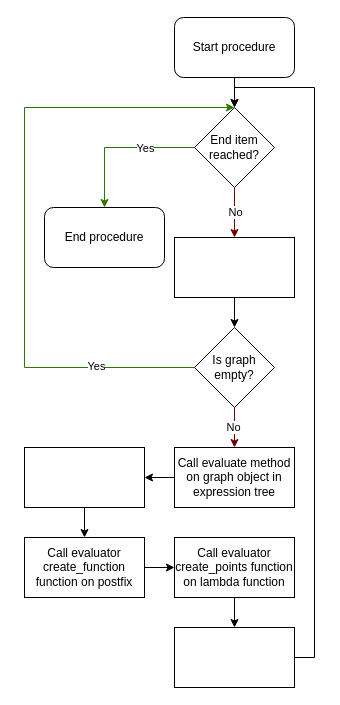
Some shapes in this 340 by 705 pixel diagram are drawn without their labels. Here are the shapes that lost their labels. From the top down, the centre of each, then its label:
At (234,267): "Iterate to next graph in list passed into procedure".
At (84,477): "Call parser convert function on evaluated tokens".
At (234,657): "Plot graph on screen from graph_display module".
